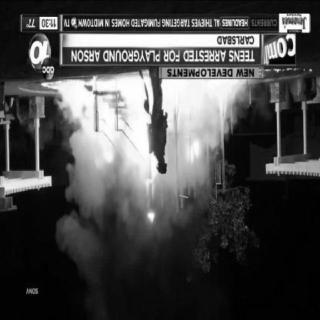Fire: (53, 70, 249, 170), (146, 199, 168, 223)
Smoke: (70, 183, 138, 265), (97, 235, 179, 302)
